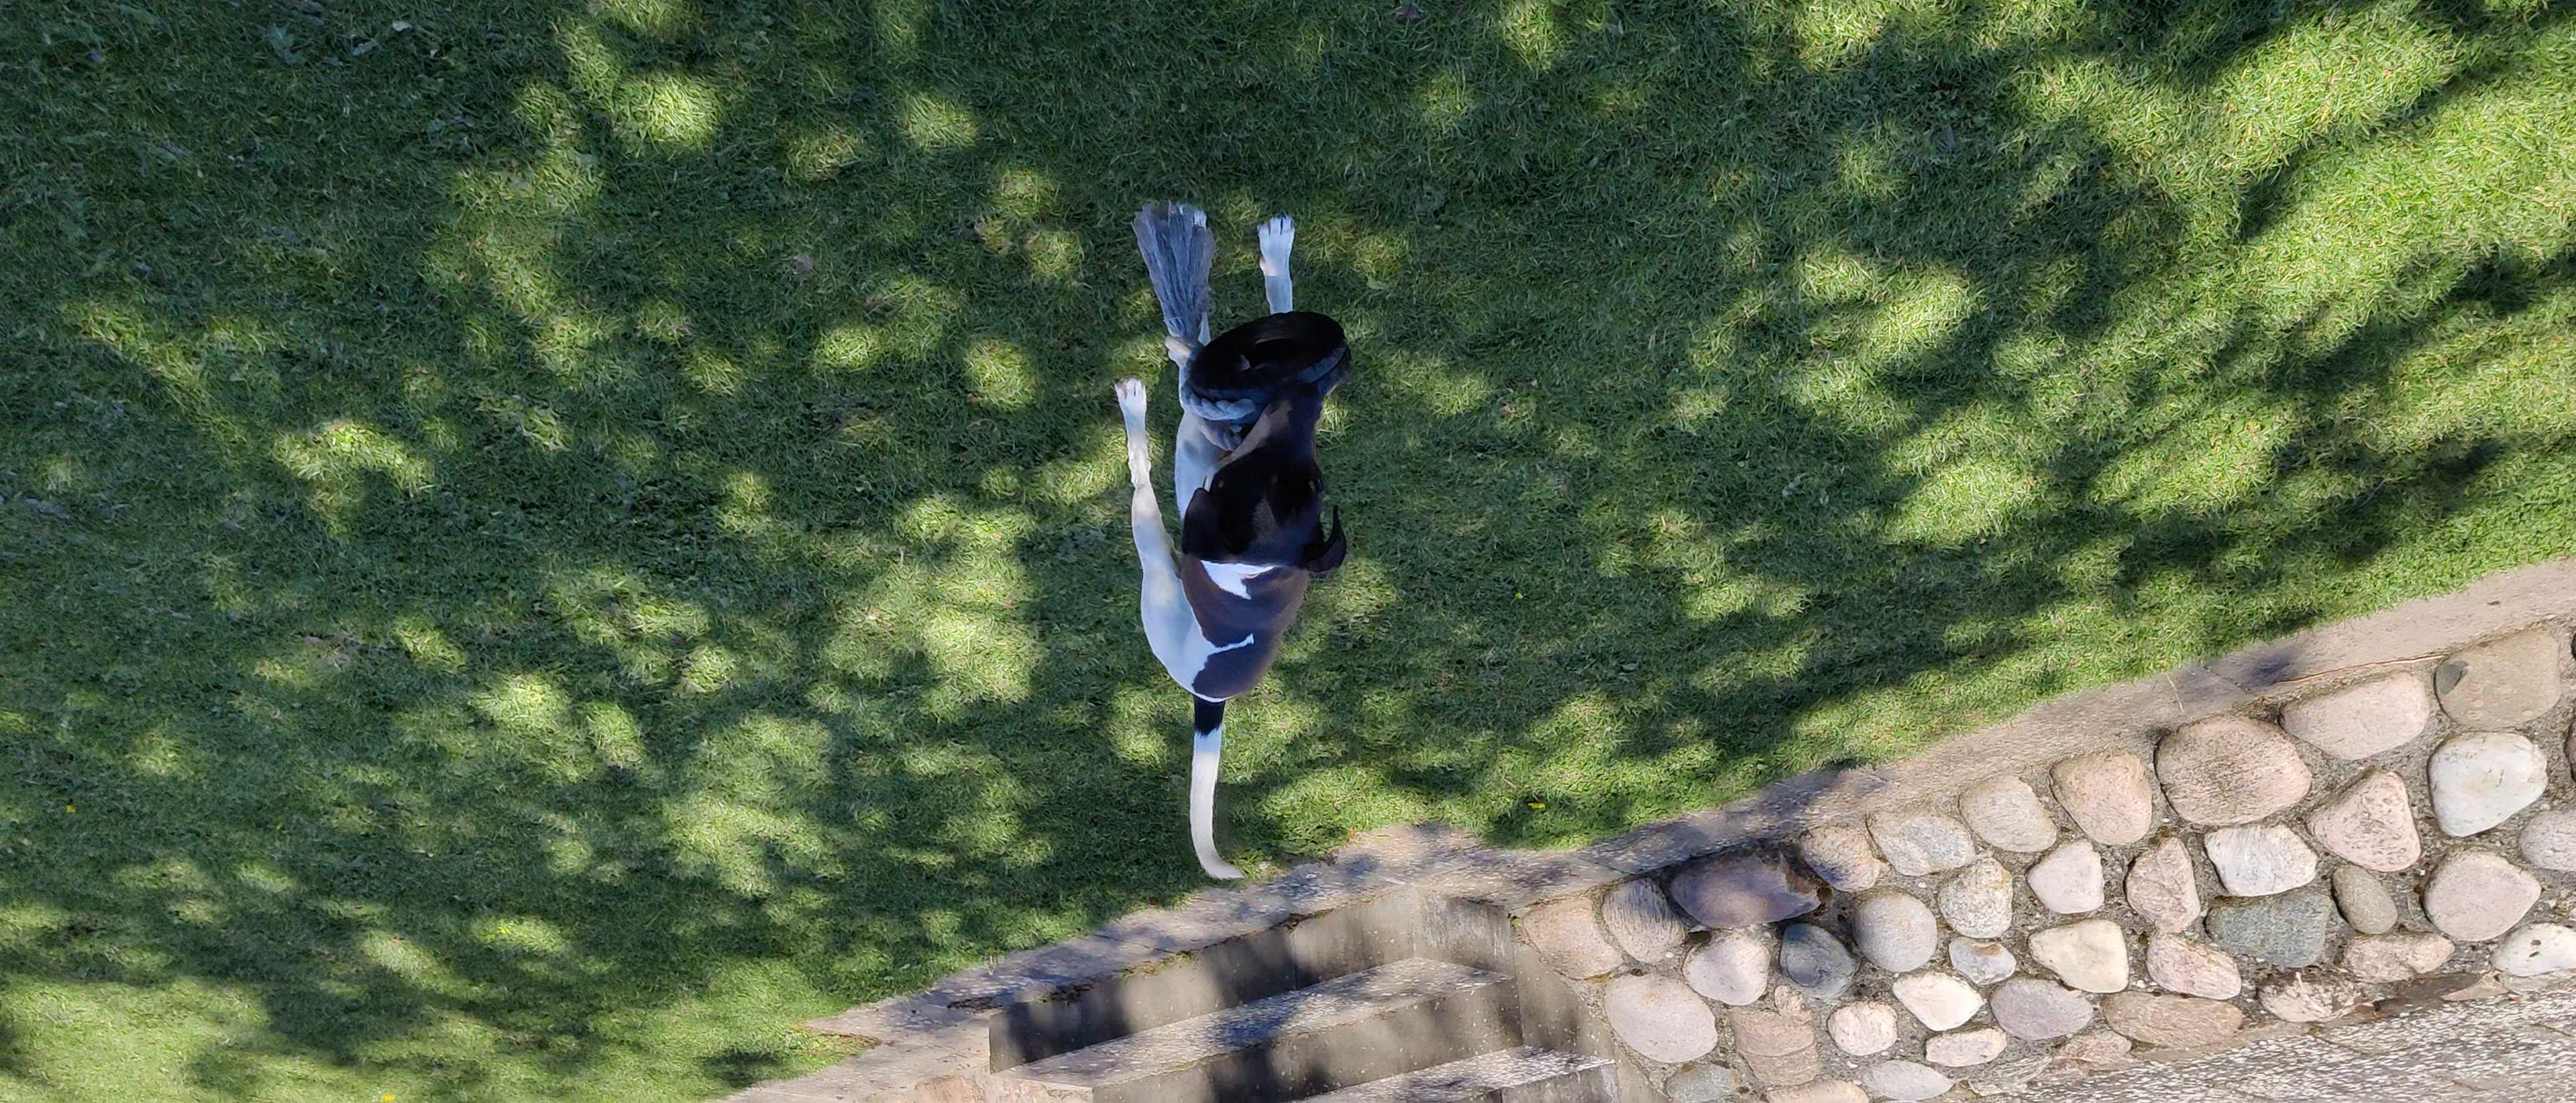Dog: (1092, 179, 1367, 899)
